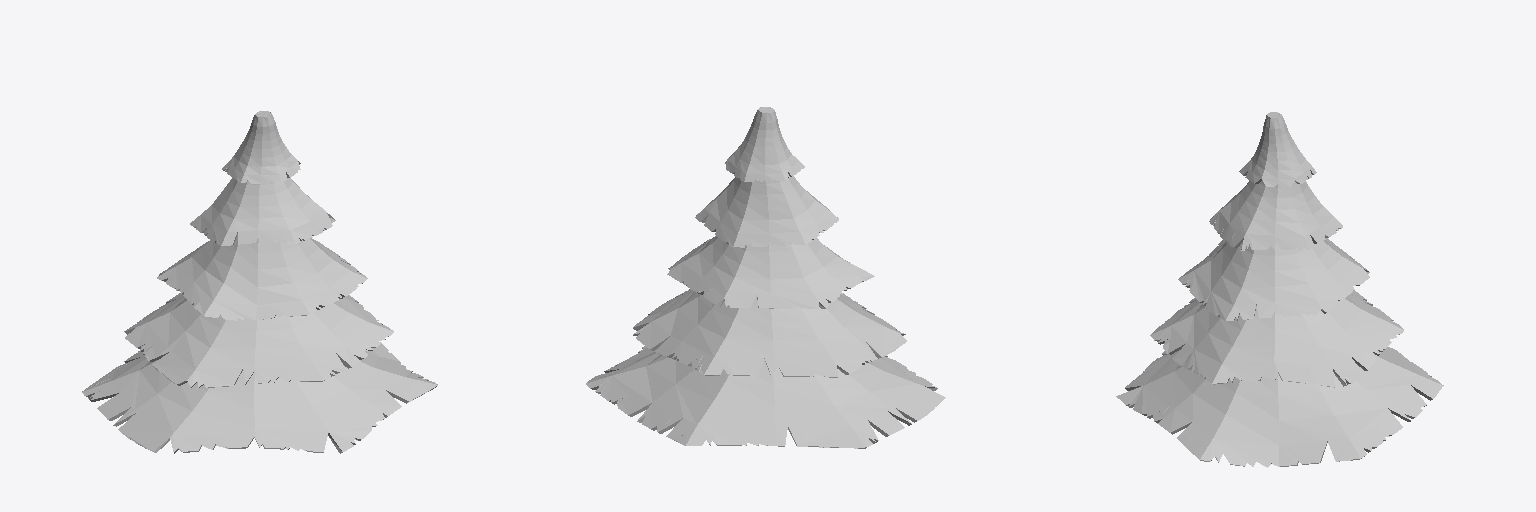
The model's file is cone_tier_5.obj.
3 views of the same model, side by side, from view 1: azimuth 30°, elevation 25°; view 2: azimuth 150°, elevation 25°; view 3: azimuth 270°, elevation 25° (orthographic).
Parts seen in each view (by area): view 1: cone_tier_5; view 2: cone_tier_5; view 3: cone_tier_5.
Part boxes in pixels (x1,y1,x2,y2): cone_tier_5: (82,111,437,453); cone_tier_5: (586,107,945,448); cone_tier_5: (1116,112,1443,467).
Size of the model in its own units: 0.3153 by 0.2994 by 0.3101.